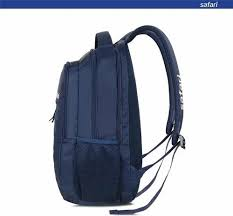backpack: (50, 24, 185, 213)
